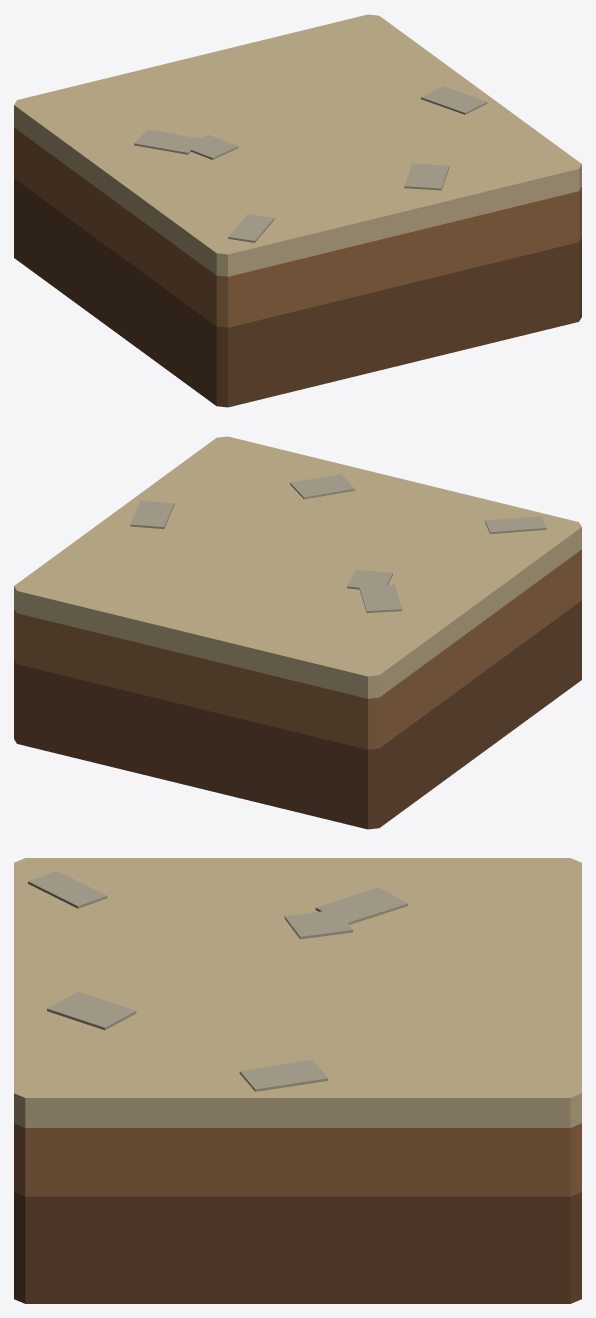
The model's file is ground_gravel.glb.
3 renders of one model, top to bottom at view 1: azimuth 30°, elevation 25°; view 2: azimuth 150°, elevation 25°; view 3: azimuth 270°, elevation 25°, orthographic. The views are drawn at different scales.
Visible parts, largest first — view 1: ground_gravel; view 2: ground_gravel; view 3: ground_gravel.
Part boxes in pixels (box(x1,y1,x2,y2)): ground_gravel: box(14, 14, 581, 407); ground_gravel: box(14, 436, 581, 829); ground_gravel: box(14, 858, 581, 1303).
Size of the model in its own units: 6 by 2.43 by 6.
